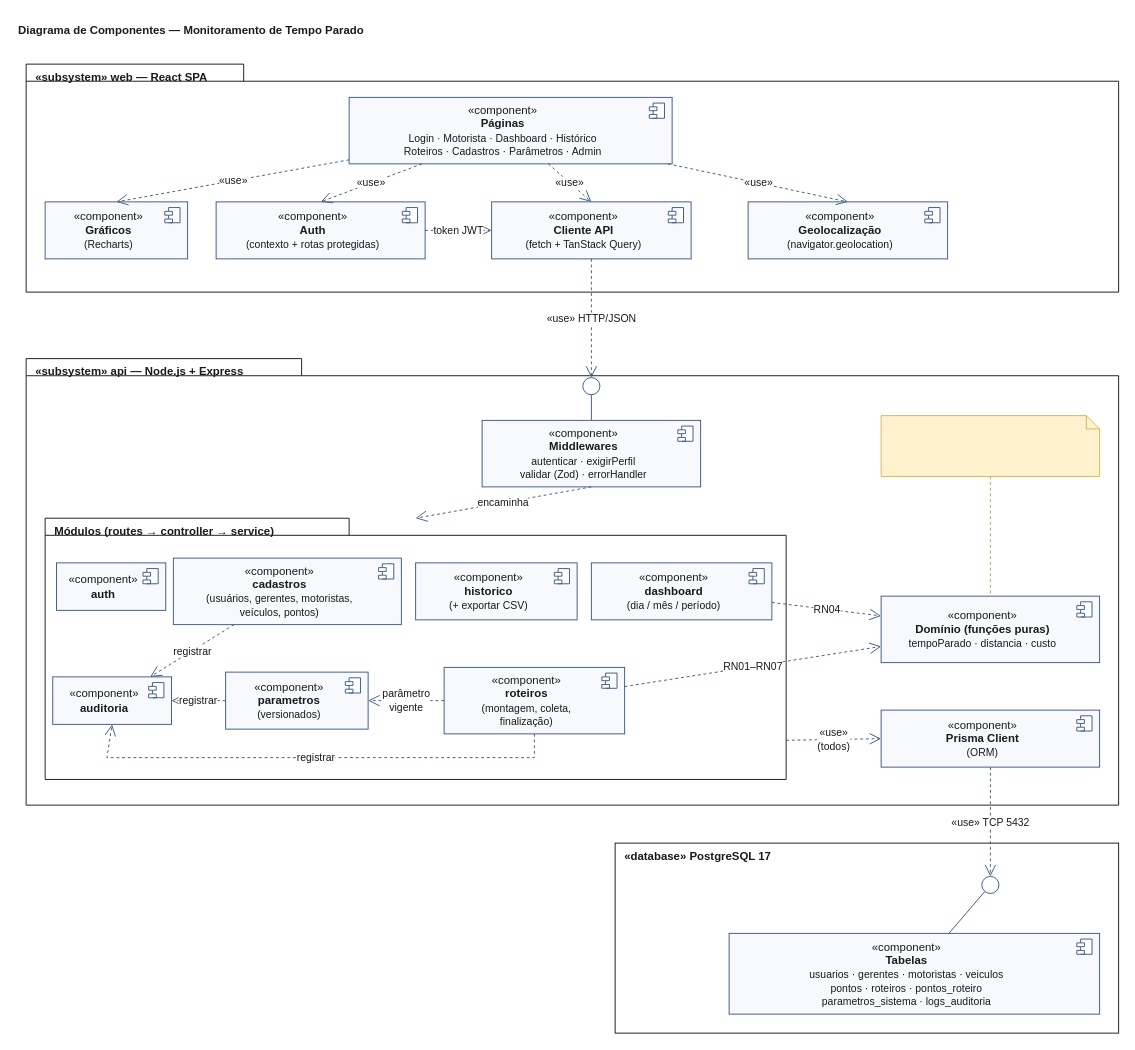
Some shapes in this 1135 by 1050 pixel diagram are drawn without their labels. The centre of each missing label's shape, as x and y in pixels:
"Domínio sem dependência de banco ou HTTP: 100% coberto por testes unitários." belongs at (990,445).
"REST /api" belongs at (591,386).
"SQL" belongs at (990,884).
